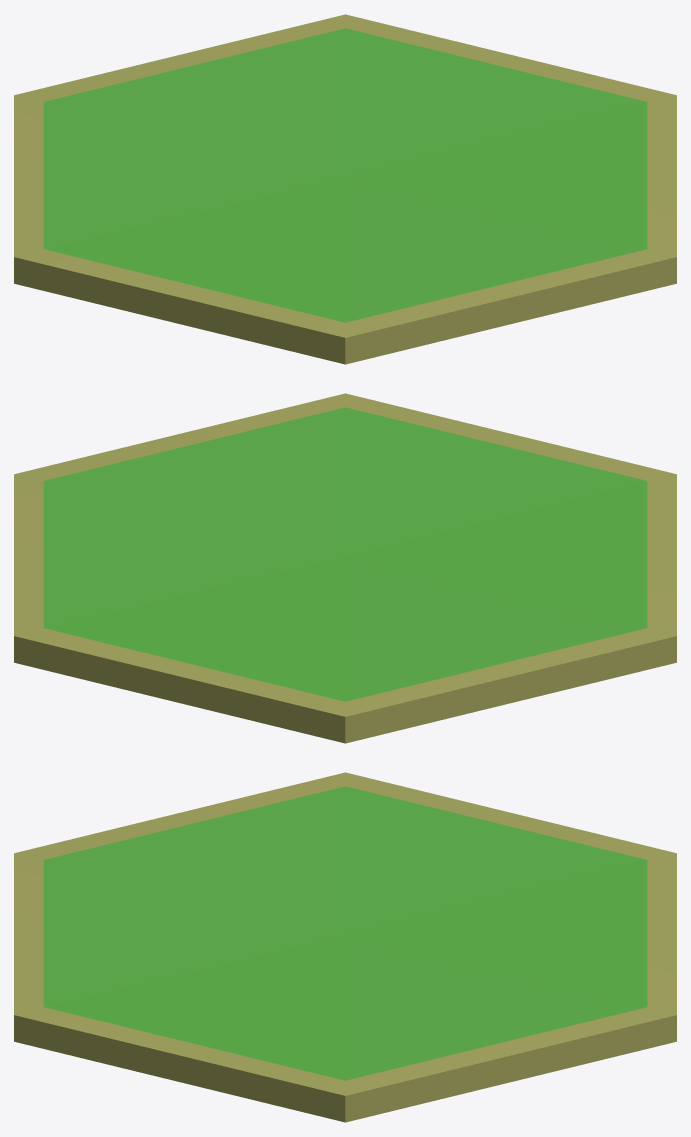
The model's file is Disappearing_Tile.fbx.
3 renders of one model, top to bottom at view 1: azimuth 30°, elevation 25°; view 2: azimuth 150°, elevation 25°; view 3: azimuth 270°, elevation 25°, orthographic.
Parts seen in each view (by area): view 1: pCylinder18; view 2: pCylinder18; view 3: pCylinder18.
Boxes of the visible parts, box(x1,y1,x2,y2) form: pCylinder18: box(14, 14, 676, 364); pCylinder18: box(14, 393, 676, 743); pCylinder18: box(14, 772, 676, 1122).
Bounding box in the file's own units: 9.25 × 0.3717 × 8.01.
